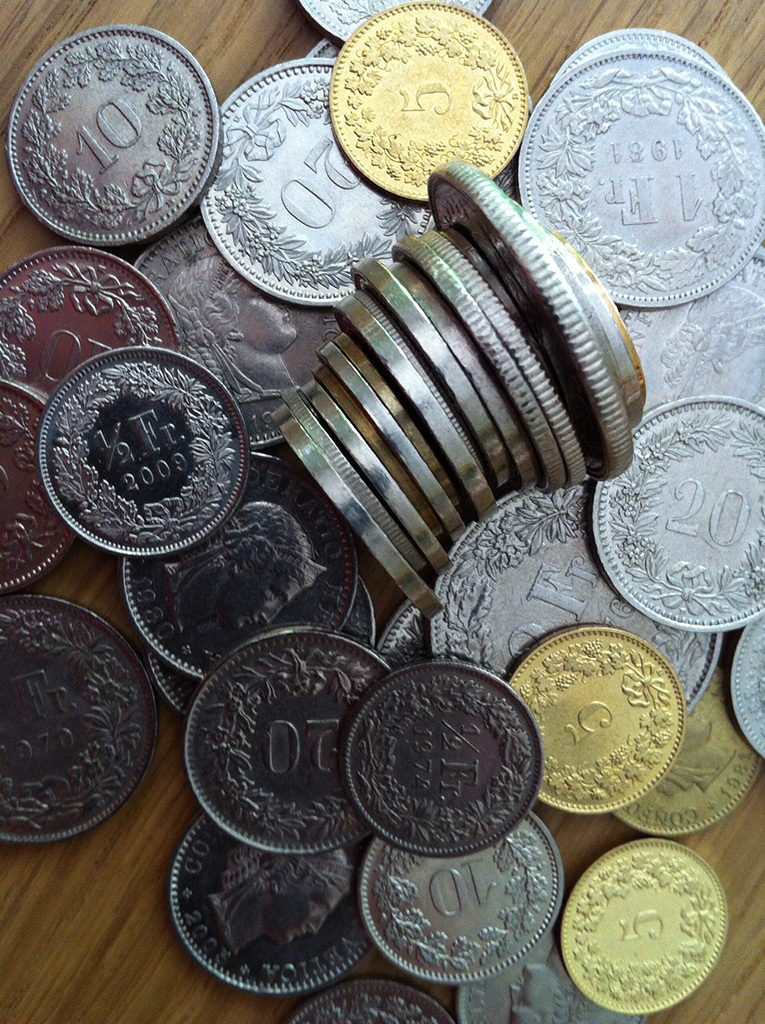Coin: (0, 0, 764, 1023)
